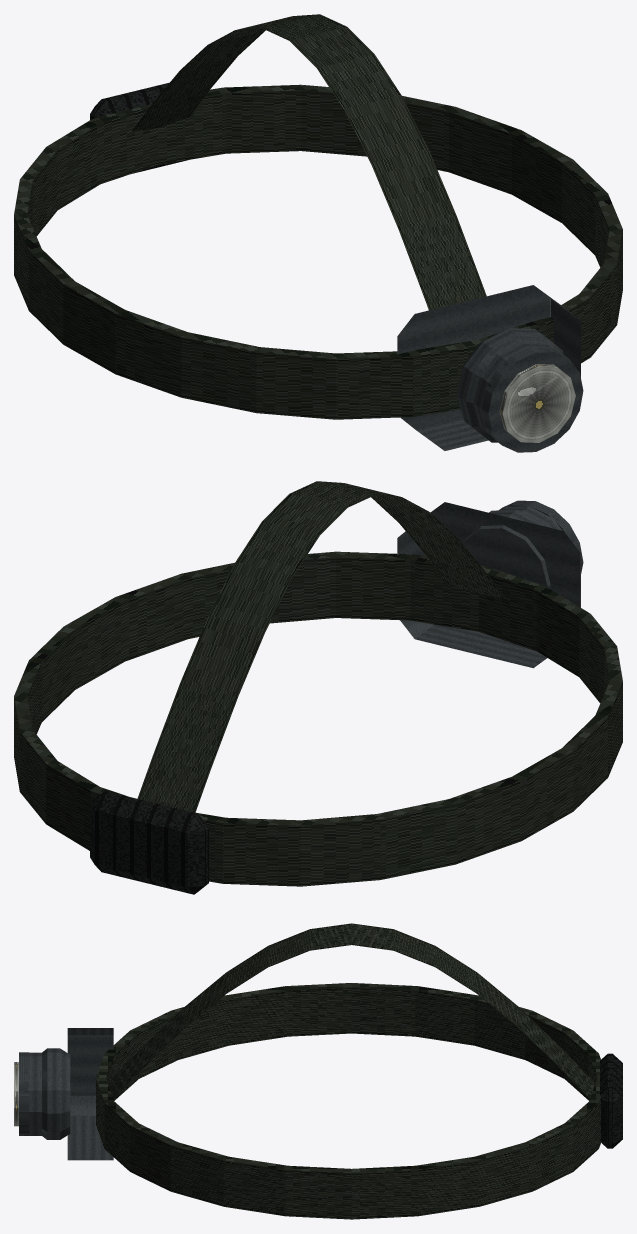
The model's file is blender_head_gear_1.glb.
3 renders of one model, top to bottom at view 1: azimuth 30°, elevation 25°; view 2: azimuth 150°, elevation 25°; view 3: azimuth 270°, elevation 25°, orthographic. The views are drawn at different scales.
Parts seen in each view (by area): view 1: blender_head_gear_1; view 2: blender_head_gear_1; view 3: blender_head_gear_1.
Boxes of the visible parts, x1,y1,x2,y2 form: blender_head_gear_1: (14,14,622,452); blender_head_gear_1: (14,481,622,894); blender_head_gear_1: (14,923,622,1219).
Bounding box in the file's own units: 0.176 × 0.088 × 0.238.
Materials: 4 (4 with a texture image).
